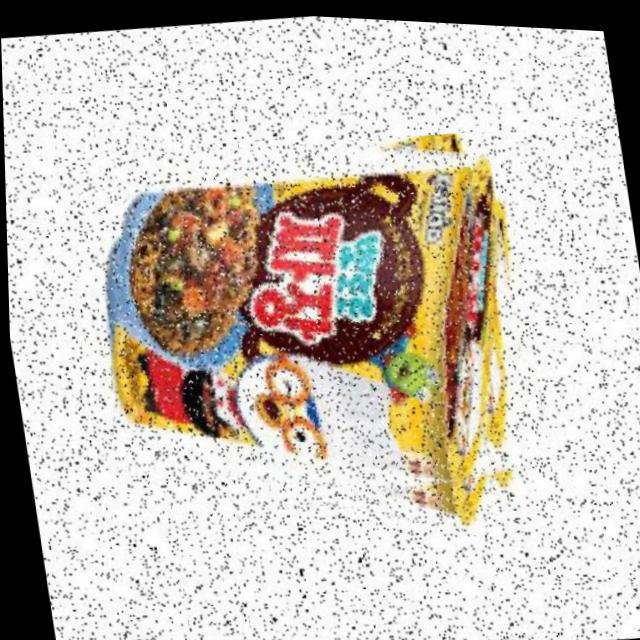Miscellaneous: (73, 107, 544, 553)
